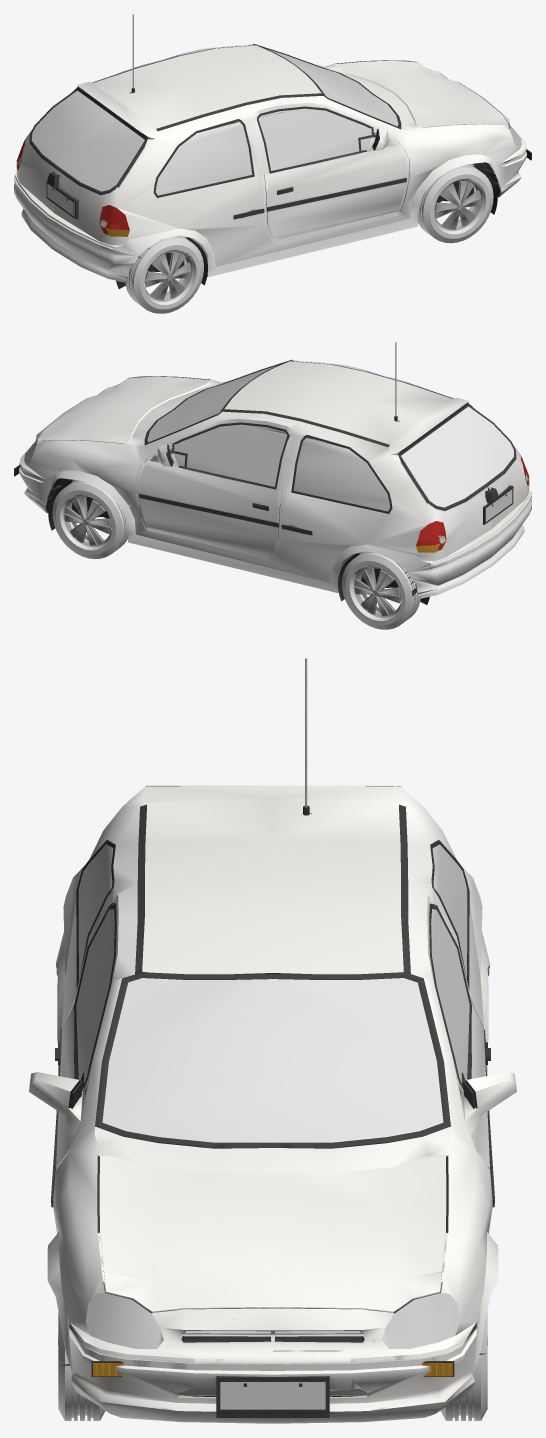
Rendered from caipora.glb.
3 renders of one model, top to bottom at view 1: azimuth 30°, elevation 25°; view 2: azimuth 150°, elevation 25°; view 3: azimuth 270°, elevation 25°, orthographic. The views are drawn at different scales.
Visible parts, largest first — view 1: body, door_fr, hood, glass_rear, bumper_rear, glass_door_fr, fender_front_right, glass_door_rr, trunk, wheel_rr_tire, wheel_fr_tire, glass_windshield (+6 smaller); view 2: body, door_fl, hood, glass_rear, bumper_rear, glass_door_fl, fender_front_left, glass_door_rl, trunk, wheel_rl_tire, wheel_fl_tire, glass_windshield (+6 smaller); view 3: body, hood, glass_windshield, bumper_front, fender_front_left, fender_front_right, grille, plate_front, glass_door_fl, glass_door_fr, headlight_left, headlight_right (+8 smaller).
Boxes of the visible parts, bbox=[...] form: body: bbox=[18, 14, 522, 288]; door_fr: bbox=[257, 106, 407, 245]; hood: bbox=[331, 60, 511, 139]; glass_rear: bbox=[32, 90, 144, 191]; bumper_rear: bbox=[14, 168, 142, 282]; glass_door_fr: bbox=[258, 108, 371, 170]; fender_front_right: bbox=[396, 117, 499, 229]; glass_door_rr: bbox=[155, 121, 252, 195]; trunk: bbox=[20, 83, 156, 230]; wheel_rr_tire: bbox=[125, 235, 203, 313]; wheel_fr_tire: bbox=[418, 163, 493, 243]; glass_windshield: bbox=[267, 49, 398, 126]; body: bbox=[23, 342, 527, 604]; door_fl: bbox=[138, 422, 289, 561]; hood: bbox=[35, 376, 214, 455]; glass_rear: bbox=[401, 406, 513, 507]; bumper_rear: bbox=[403, 484, 531, 598]; glass_door_fl: bbox=[174, 424, 287, 486]; fender_front_left: bbox=[46, 434, 146, 545]; glass_door_rl: bbox=[293, 437, 390, 511]; trunk: bbox=[389, 399, 525, 546]; wheel_rl_tire: bbox=[342, 551, 420, 629]; wheel_fl_tire: bbox=[52, 479, 127, 558]; glass_windshield: bbox=[147, 365, 278, 442]; body: bbox=[47, 658, 498, 1365]; hood: bbox=[79, 1147, 466, 1308]; glass_windshield: bbox=[102, 978, 443, 1142]; bumper_front: bbox=[68, 1312, 477, 1423]; fender_front_left: bbox=[395, 1123, 498, 1363]; fender_front_right: bbox=[47, 1123, 150, 1363]; grille: bbox=[173, 1315, 372, 1350]; plate_front: bbox=[216, 1376, 329, 1417]; glass_door_fl: bbox=[431, 909, 469, 1085]; glass_door_fr: bbox=[76, 909, 114, 1082]; headlight_left: bbox=[382, 1293, 460, 1348]; headlight_right: bbox=[85, 1293, 163, 1348].
Bounding box in the file's own units: 3.74 × 1.98 × 1.76.
12 materials, 8 textured.
